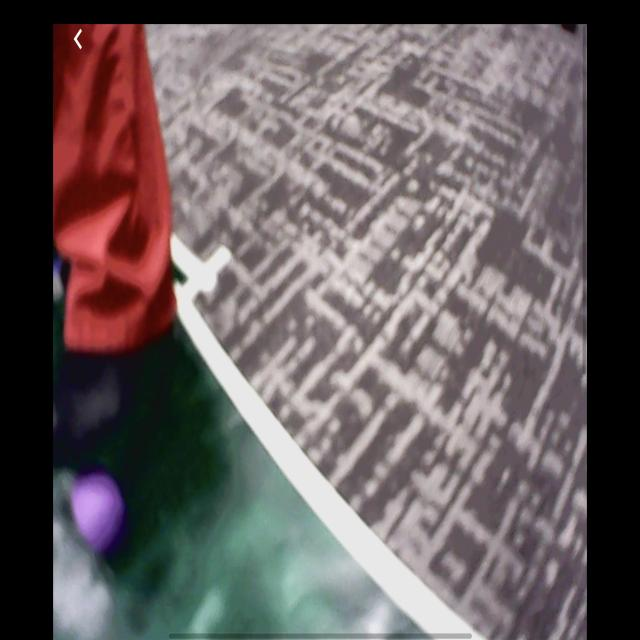ball: (70, 477, 125, 555)
